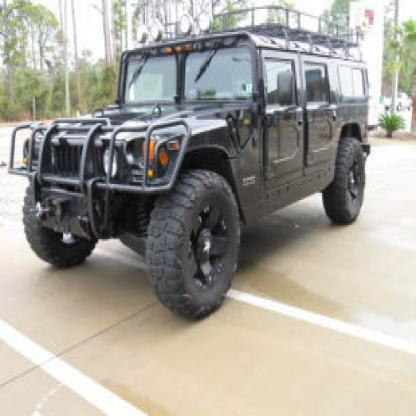Vehicle: (9, 7, 372, 322)
